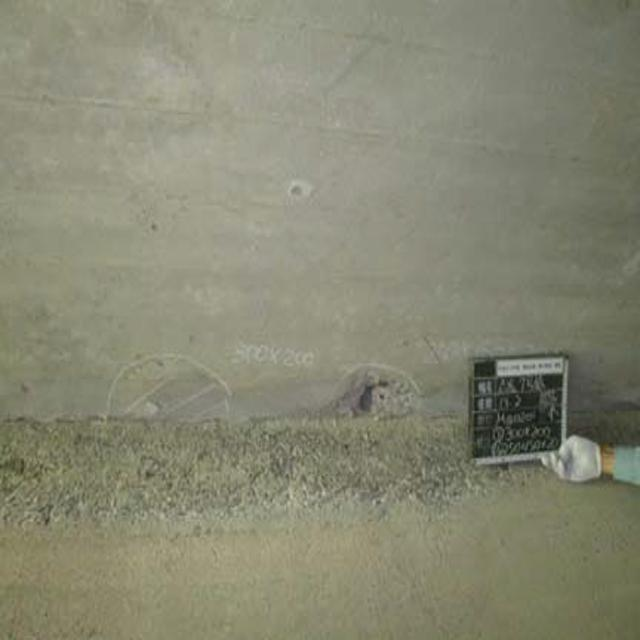spalling: (334, 347, 417, 427)
